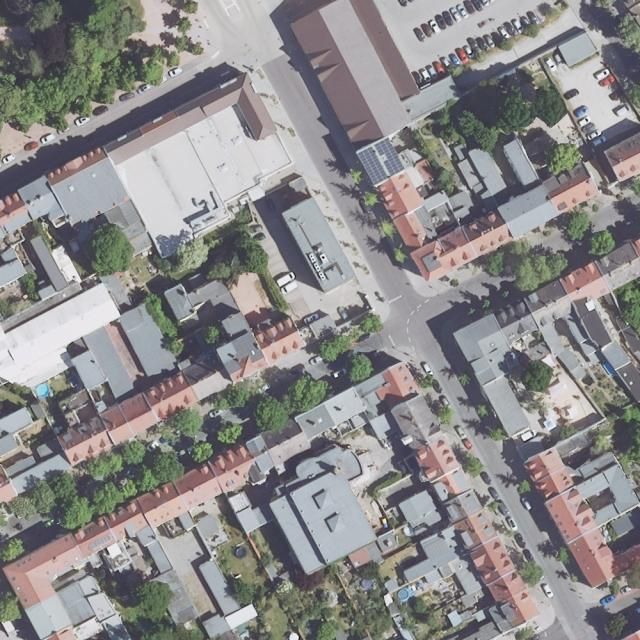PV: (356, 147, 388, 185), (374, 137, 404, 175)
ST: (89, 534, 112, 551)
